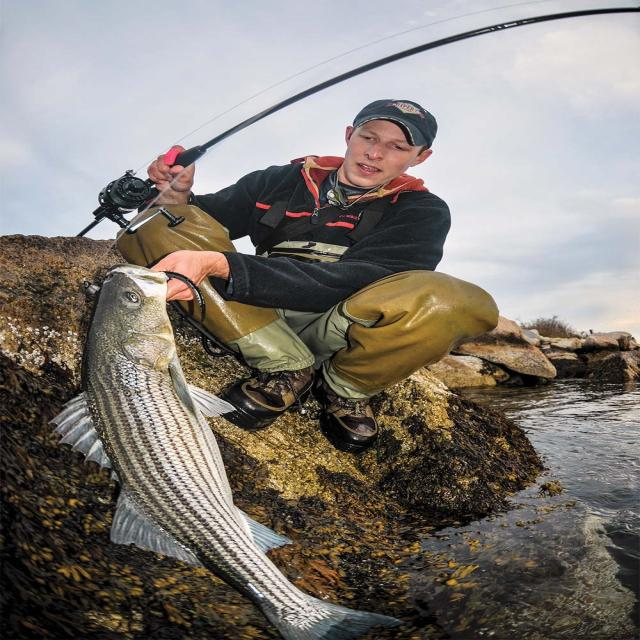Bass - Striped: (52, 264, 401, 640)
